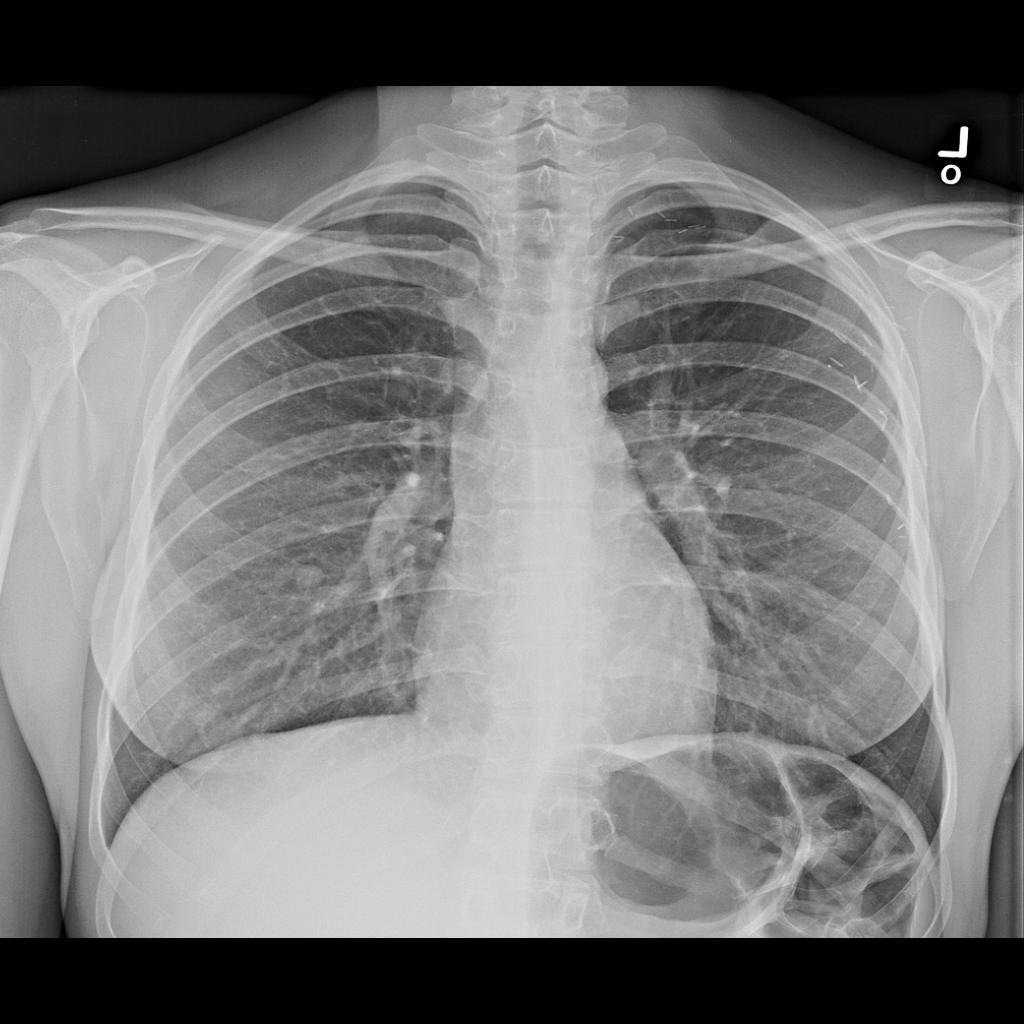Nodule: (293, 561, 329, 597)
